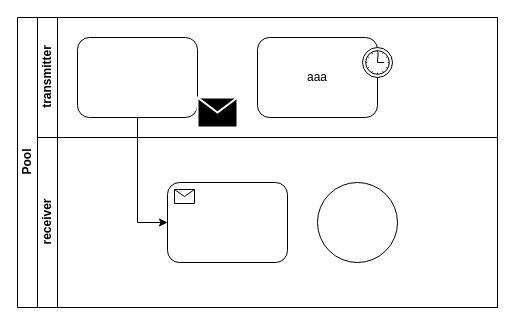
Some shapes in this 515 by 325 pixel diagram are drawn without their labels. Here are the shapes that lost their labels. From the top down, the centre of each, then its label:
point 137,77: find server
point 227,222: Receive
